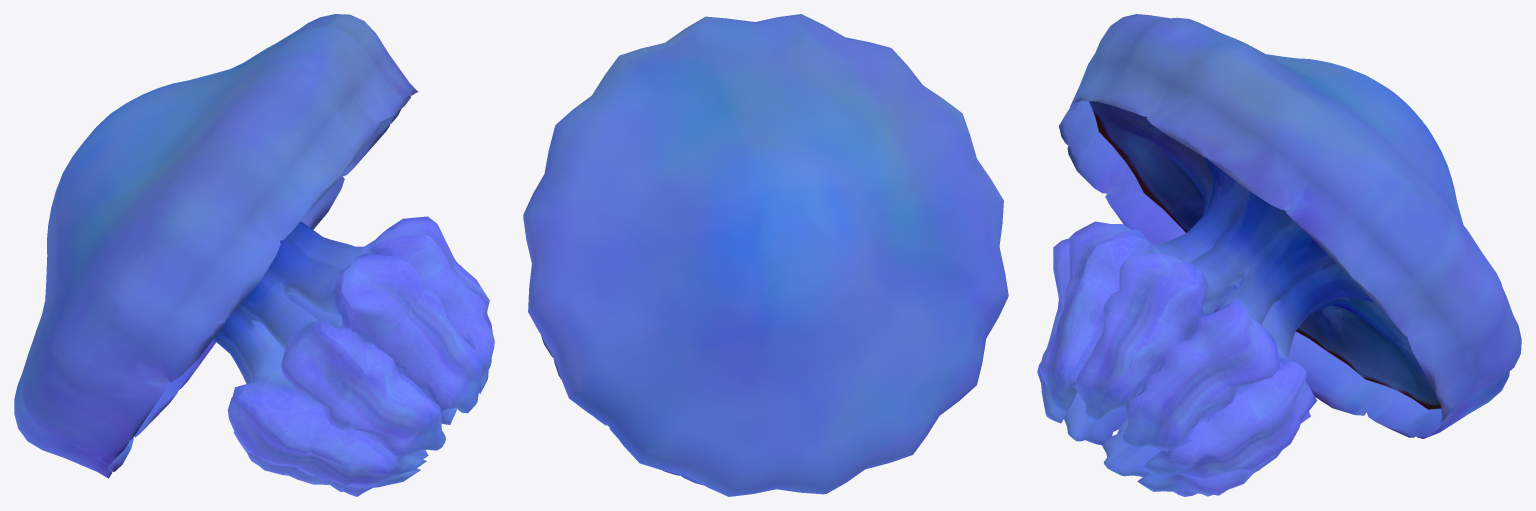
Rendered from sw_cannonballjelly.glb.
3 renders of one model, left to right at view 1: azimuth 30°, elevation 25°; view 2: azimuth 150°, elevation 25°; view 3: azimuth 270°, elevation 25°, orthographic. The views are drawn at different scales.
Parts seen in each view (by area): view 1: Jellyfish_003Shape; view 2: Jellyfish_003Shape; view 3: Jellyfish_003Shape.
Boxes of the visible parts, x1=… form: Jellyfish_003Shape: x1=14, y1=14, x2=494, y2=496; Jellyfish_003Shape: x1=523, y1=14, x2=1008, y2=496; Jellyfish_003Shape: x1=1037, y1=14, x2=1521, y2=496.
Bounding box in the file's own units: 3.92 × 3.92 × 3.93.
1 material, 1 textured.
